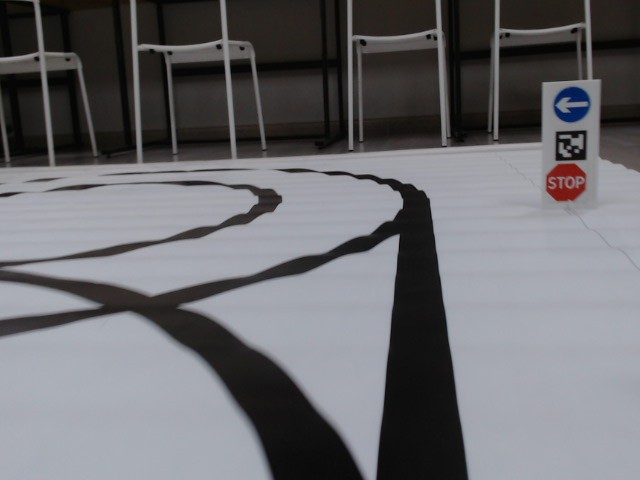Stop: (542, 162, 588, 203)
